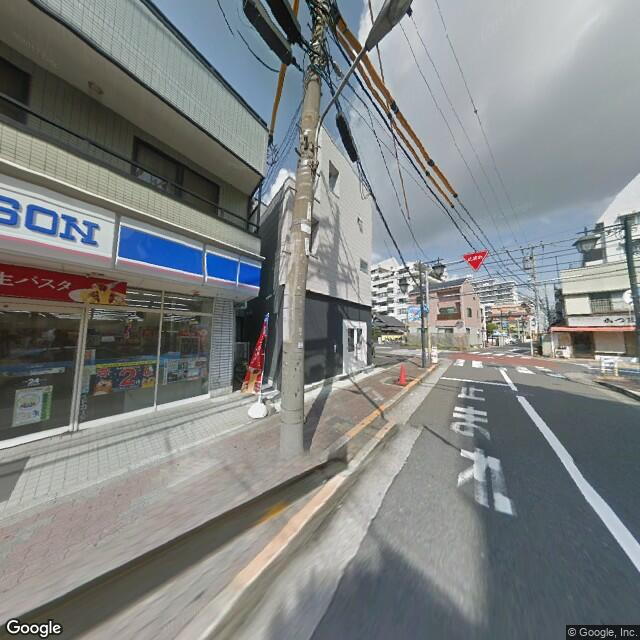lawson: (1, 176, 259, 300)
